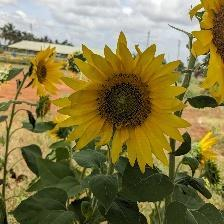sunflower: (51, 29, 192, 176)
